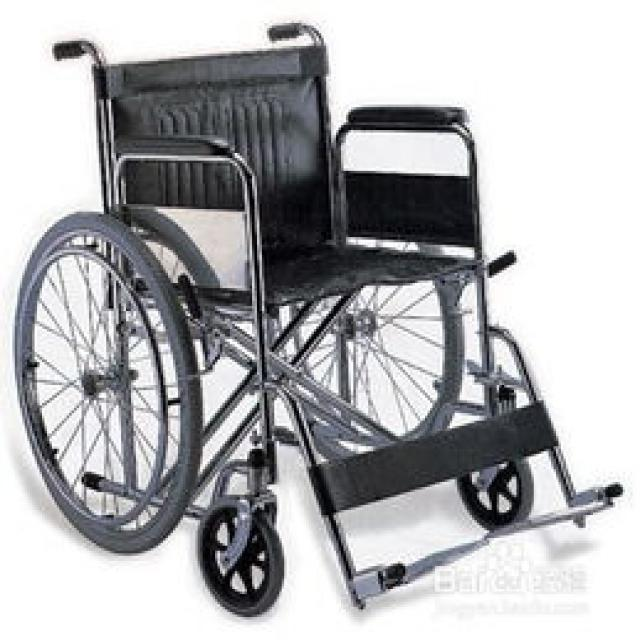wheelchairs: (15, 21, 622, 624)
